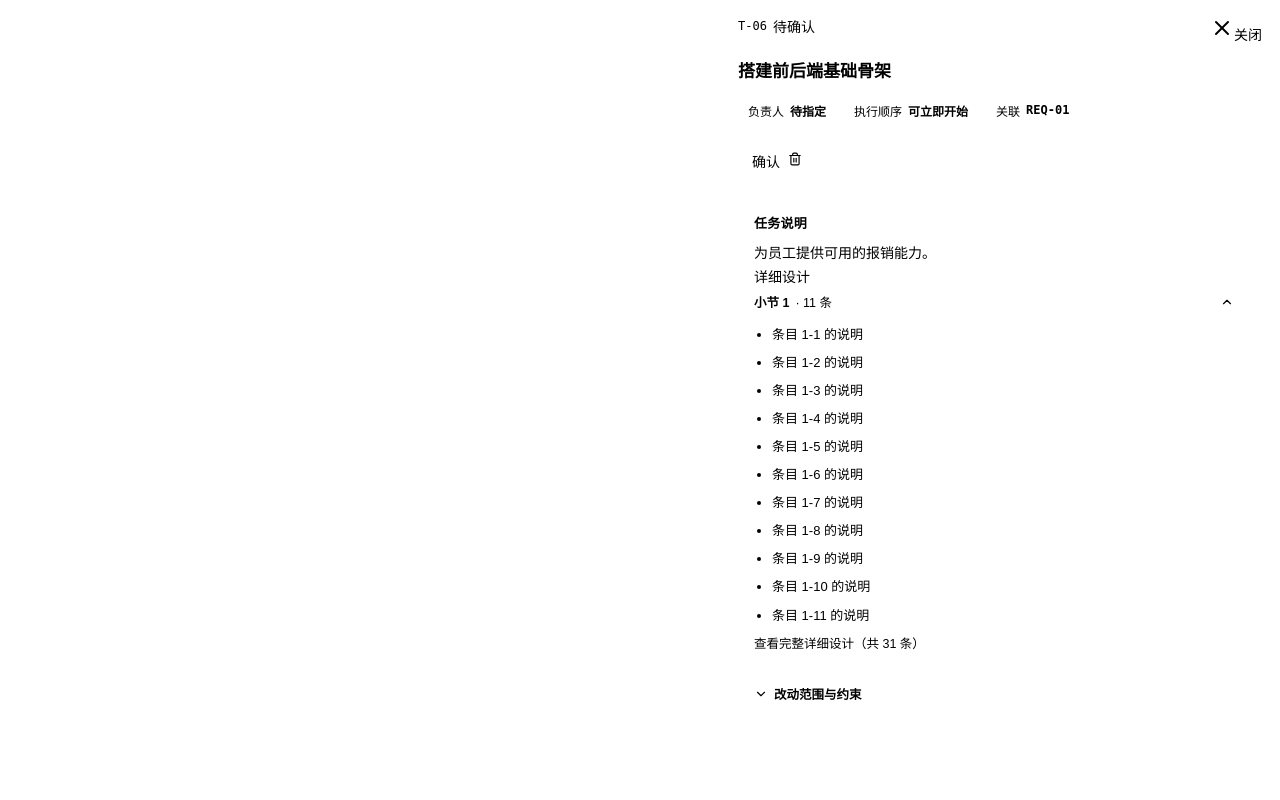
TaskDetail › 详细设计超过 30 条时只留第一块，文字链接打开完整阅读器
The image size is (1280, 800).
Click the button with test id "task-design-view-full": point(839, 642) [754, 633, 925, 652]
(page scrolled)
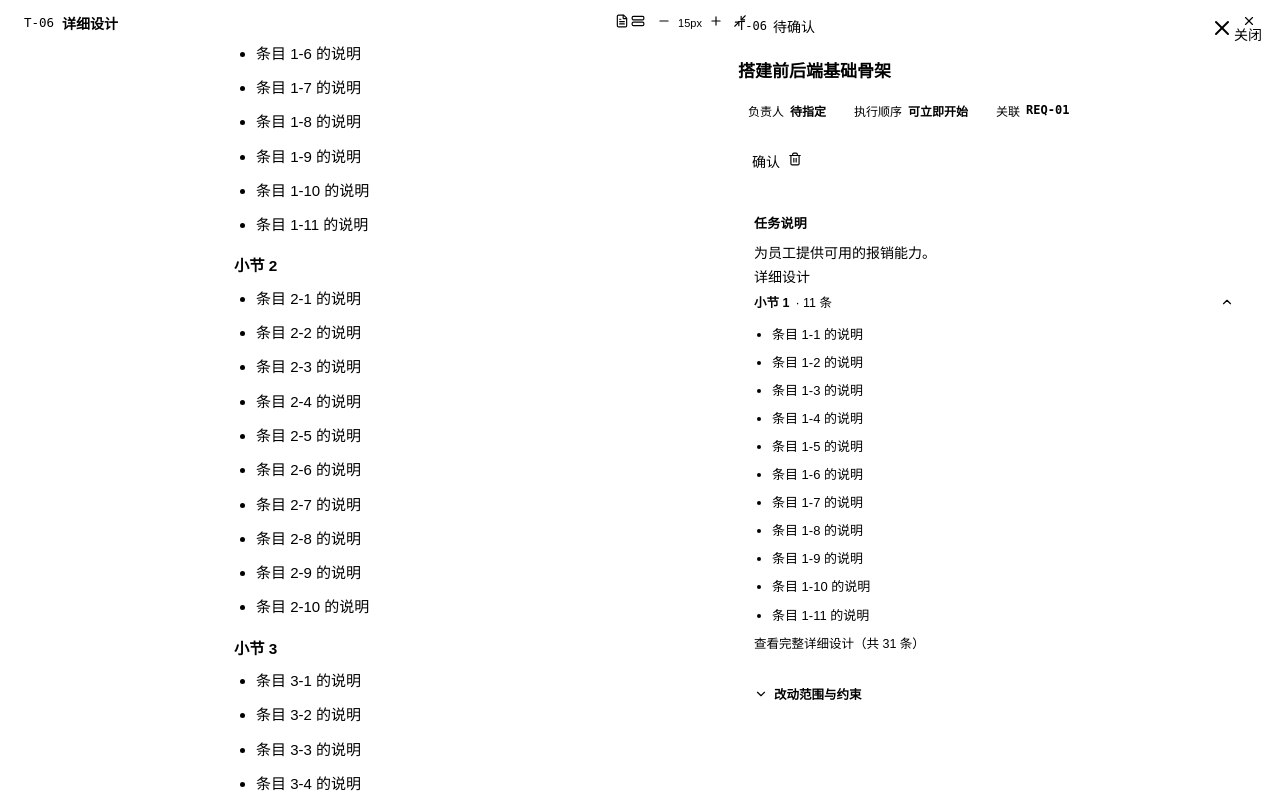
Expected: the dialog with test id "task-design-fullscreen-layer" is shown
Expected: the element with test id "task-design-fullscreen-body" shows "小节 3", [234, 640, 277, 656]
